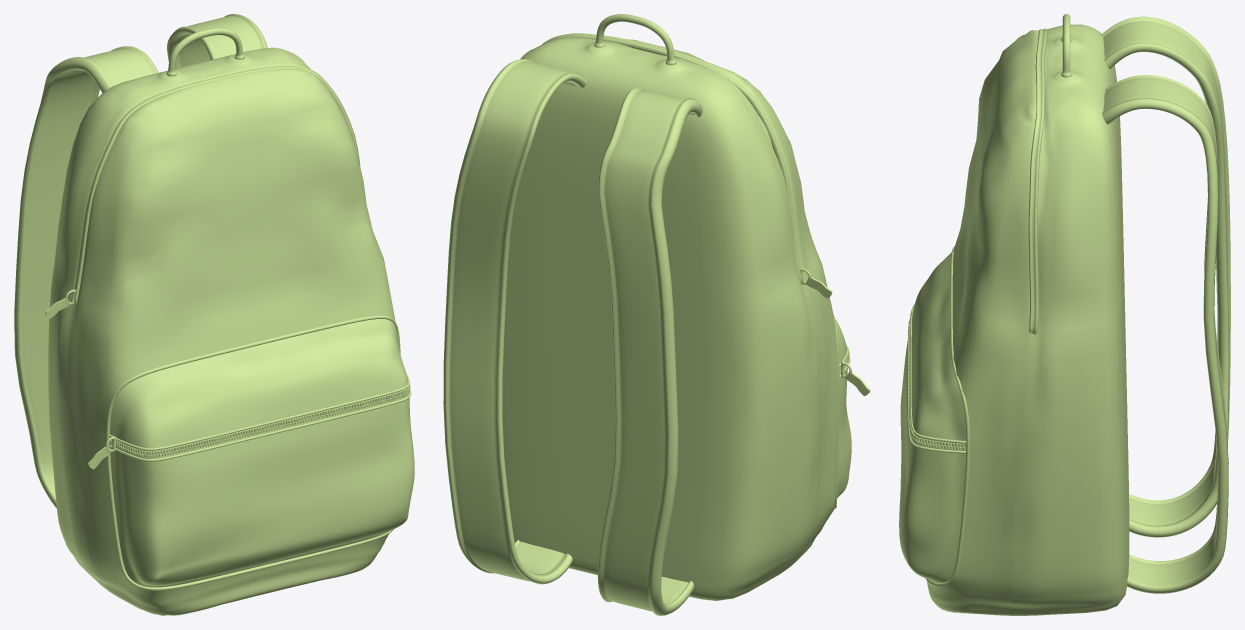
Rendered from backpack_green.glb.
3 views of the same model, side by side, from view 1: azimuth 30°, elevation 25°; view 2: azimuth 150°, elevation 25°; view 3: azimuth 270°, elevation 25° (orthographic). The views are drawn at different scales.
Visible parts, largest first — view 1: Cube, Cube.001, Cube.002, Cube.003, Cube.009, Cube.007, Cube.005, Cube.004; view 2: Cube, Cube.002, Cube.009, Cube.001, Cube.004; view 3: Cube, Cube.002, Cube.001, Cube.009, Cube.003, Cube.005, Cube.004, Cube.007.
Part boxes in pixels (box(x1,y1,x2,y2)): Cube: box(48, 47, 395, 615); Cube.001: box(110, 319, 414, 587); Cube.002: box(14, 14, 267, 508); Cube.003: box(106, 315, 400, 590); Cube.009: box(71, 64, 360, 305); Cube.007: box(110, 384, 410, 457); Cube.005: box(109, 374, 411, 461); Cube.004: box(166, 27, 244, 76); Cube: box(502, 37, 837, 600); Cube.002: box(443, 59, 702, 615); Cube.009: box(542, 33, 802, 284); Cube.001: box(835, 318, 851, 498); Cube.004: box(594, 14, 676, 65); Cube: box(927, 24, 1129, 615); Cube.002: box(1101, 16, 1230, 593); Cube.001: box(899, 252, 966, 582); Cube.009: box(1028, 28, 1046, 334); Cube.003: box(925, 246, 970, 586); Cube.005: box(907, 304, 966, 453); Cube.004: box(1061, 14, 1071, 77); Cube.007: box(909, 312, 965, 450).
Size of the model in its own units: 1.13 by 1.71 by 0.9532.
